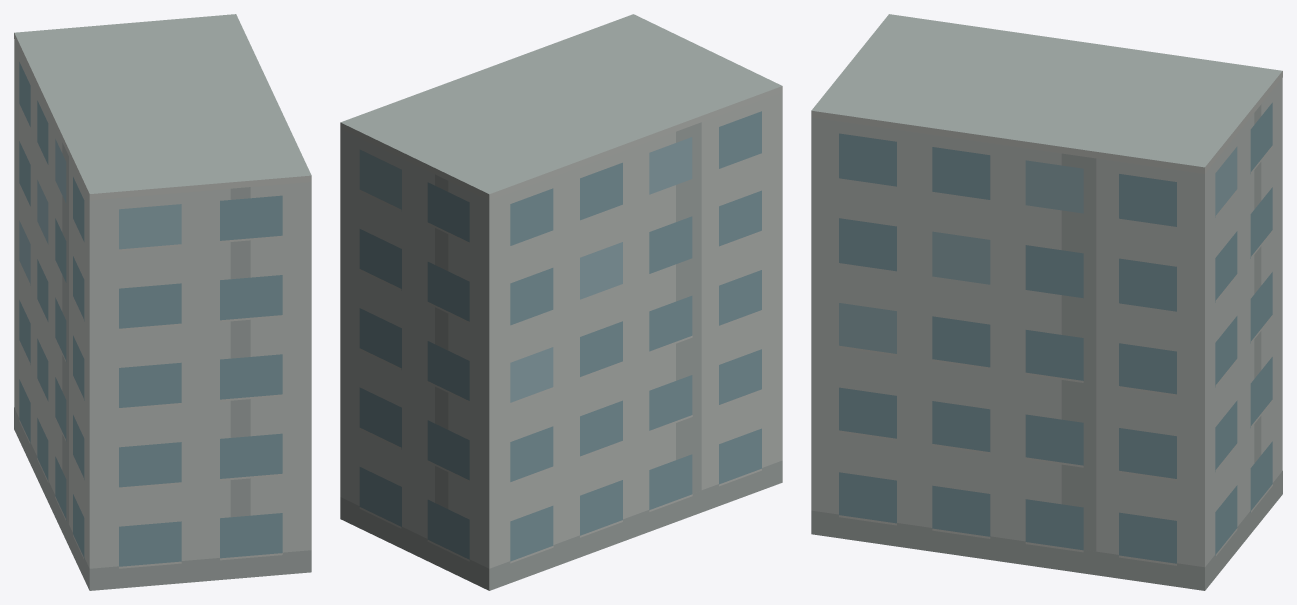
File: residential-31168b2b-2ff4-4936-aea9-ead2bbf5c9b4.glb
The picture shows the model from 3 angles, left to right: view 1: azimuth 30°, elevation 25°; view 2: azimuth 150°, elevation 25°; view 3: azimuth 270°, elevation 25°; orthographic projection. The views are drawn at different scales.
Parts seen in each view (by area): view 1: residential-31168b2b-2ff4-4936-aea9-ead2bbf5c9b4.tmp; view 2: residential-31168b2b-2ff4-4936-aea9-ead2bbf5c9b4.tmp; view 3: residential-31168b2b-2ff4-4936-aea9-ead2bbf5c9b4.tmp.
Part boxes in pixels (<box>): residential-31168b2b-2ff4-4936-aea9-ead2bbf5c9b4.tmp: <box>14,14,311,590</box>; residential-31168b2b-2ff4-4936-aea9-ead2bbf5c9b4.tmp: <box>340,14,782,590</box>; residential-31168b2b-2ff4-4936-aea9-ead2bbf5c9b4.tmp: <box>811,14,1282,590</box>.
Size of the model in its own units: 11.85 by 15.25 by 15.4.
